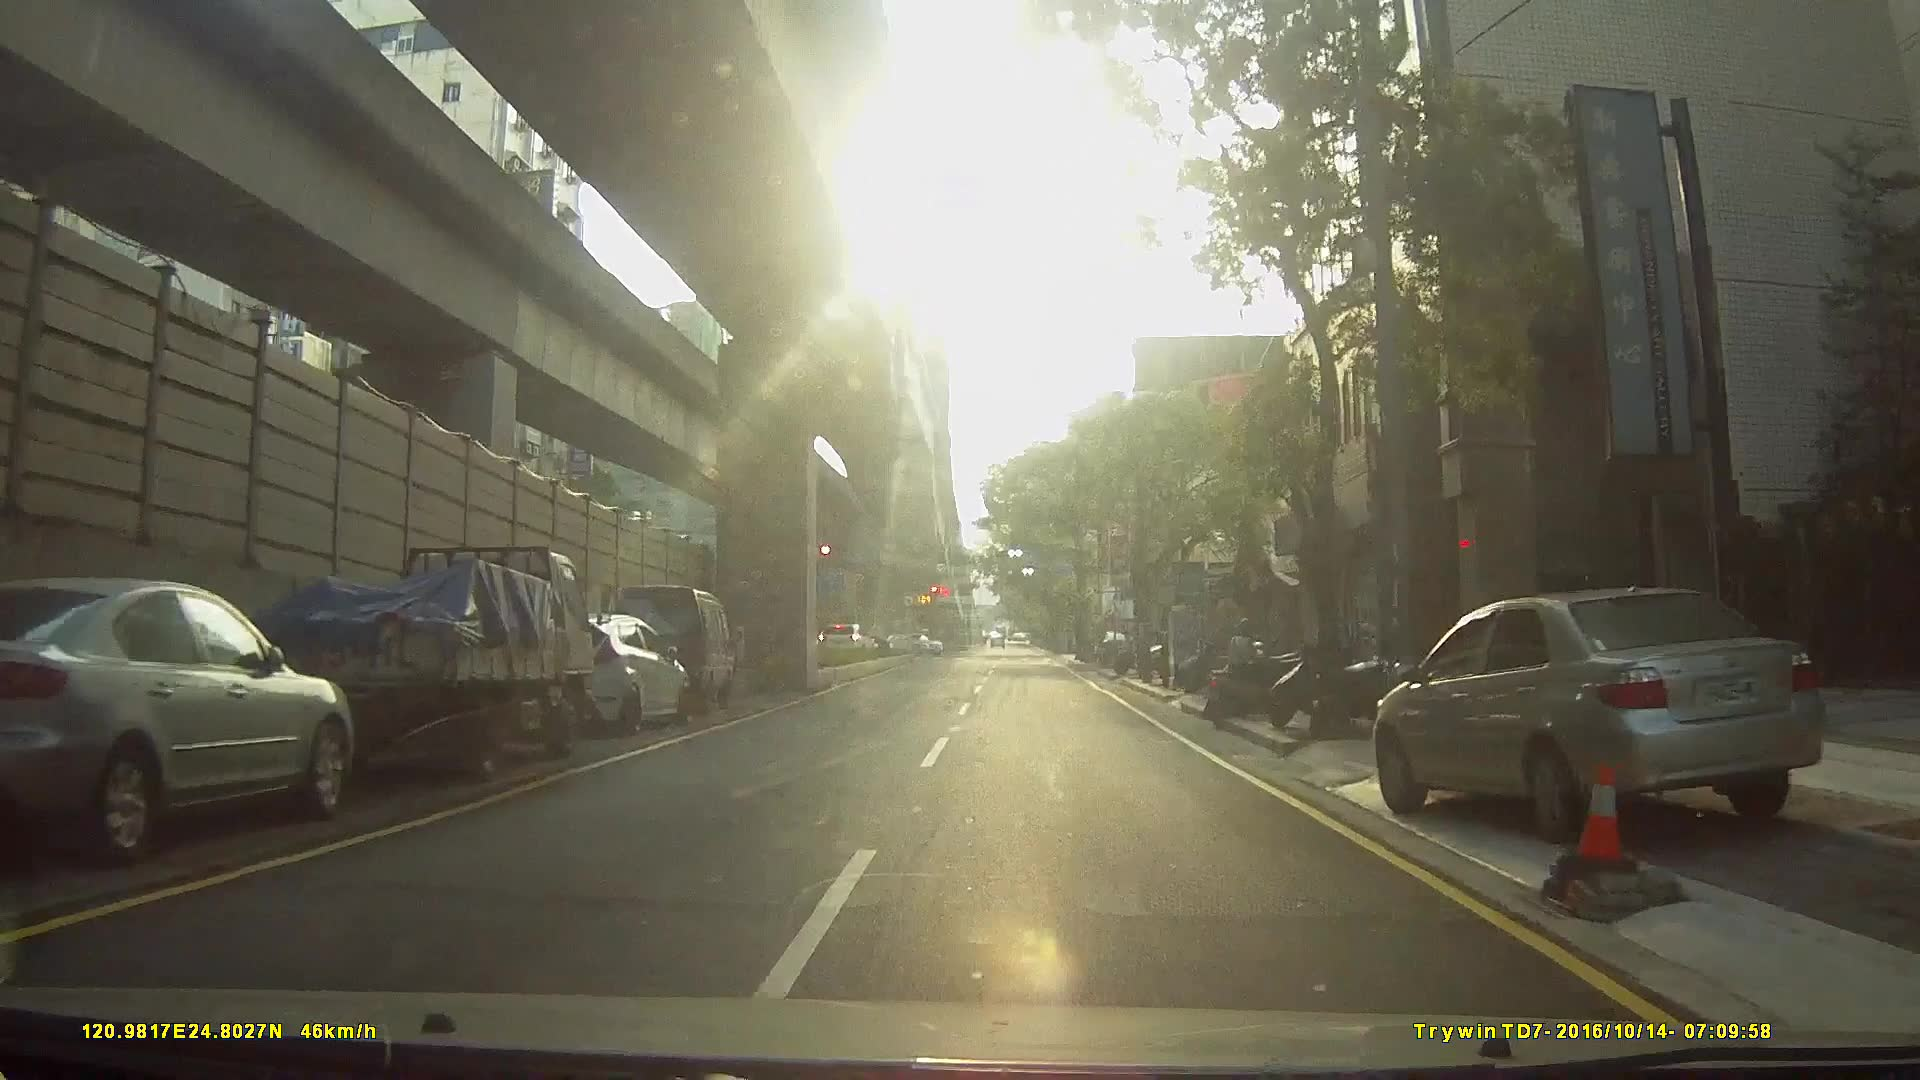rider: (1200, 612, 1294, 729)
vehicle: (1352, 577, 1854, 838), (4, 558, 367, 873), (202, 535, 622, 782), (515, 606, 687, 735), (601, 580, 733, 713), (814, 620, 873, 657), (1093, 629, 1139, 667)
